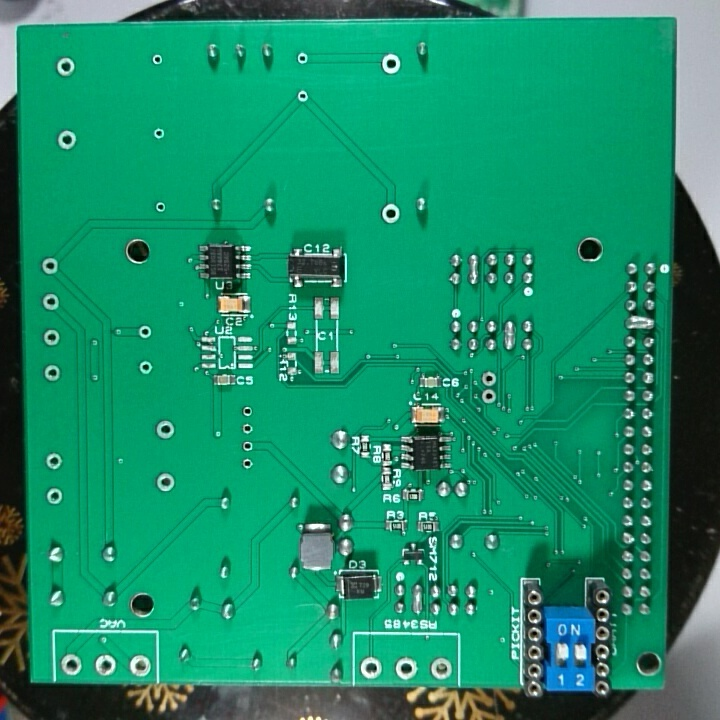F: (127, 649, 155, 678), (393, 655, 421, 683), (427, 654, 453, 683), (92, 651, 119, 678), (379, 199, 405, 227), (359, 655, 384, 683), (59, 650, 84, 678), (379, 50, 403, 77), (153, 417, 176, 443), (154, 471, 177, 495), (57, 129, 80, 152), (44, 486, 67, 508), (41, 326, 63, 349), (54, 55, 76, 78), (44, 451, 64, 476), (39, 256, 61, 278), (39, 291, 61, 312), (41, 363, 61, 386), (479, 368, 499, 389), (292, 85, 311, 107), (137, 357, 155, 379), (295, 47, 313, 69), (239, 436, 257, 456), (136, 323, 154, 343), (481, 386, 498, 406), (240, 455, 255, 475), (239, 421, 257, 437), (241, 403, 258, 419), (153, 199, 169, 216), (150, 52, 165, 69), (152, 126, 167, 143)
P: (623, 312, 658, 334), (410, 580, 428, 619), (501, 317, 517, 352), (466, 252, 480, 286)
